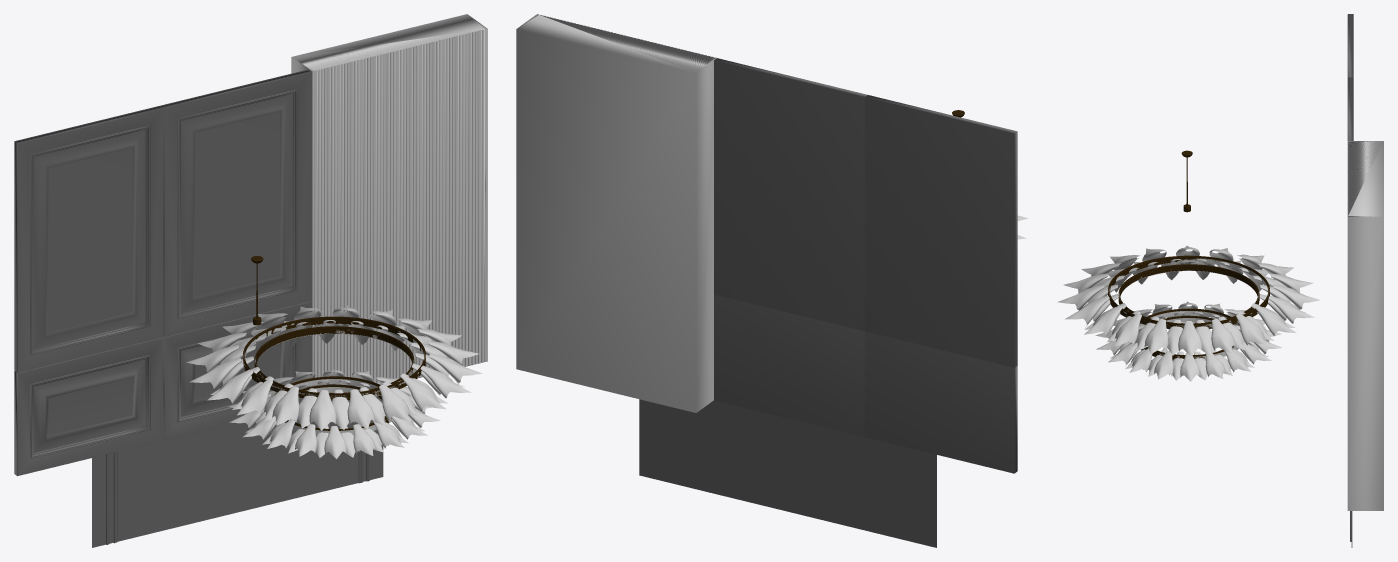
Rendered from room.gltf.
The picture shows the model from 3 angles, left to right: view 1: azimuth 30°, elevation 25°; view 2: azimuth 150°, elevation 25°; view 3: azimuth 270°, elevation 25°; orthographic projection. The views are drawn at different scales.
Parts seen in each view (by area): view 1: _10MTAwMDI=, _10MTAwMDg=, _10MTAwMDk=, _10MDAwMA==, _10MTAwMDc=, _10MTAwMTA=, _10MTAxMDE4MTMx_1, _10MTBDeWxpbmRlcjAzNw==_15, _10MTBDeWxpbmRlcjAzNw==_18, _10MTBDeWxpbmRlcjAzNw==_12, _10MTBDeWxpbmRlcjAzNw==_19, _10MTBDeWxpbmRlcjAzNw==_16 (+7 smaller); view 2: _10MTAwMDI=, _10MTAwMDg=, _10MTAwMDk=, _10MDAwMA==, _10MTAwMDc=, _10MTAwMTA=; view 3: _10MTAwMDI=, _10MTAxMDE4MTMx_1, _10MTBDeWxpbmRlcjAzNw==_6, _10MTBDeWxpbmRlcjAzNw==_7, _10MTBDeWxpbmRlcjAzNw==_3, _10MTBDeWxpbmRlcjAzNw==_13, _10MTBDeWxpbmRlcjAzNw==_8, _10MTBDeWxpbmRlcjAzNw==_17, _10MTBDeWxpbmRlcjAzNw==_2, _10MTBDeWxpbmRlcjAzNw==_14, _10MTAxMDE4MjU0_1, _10MTBDeWxpbmRlcjAzNw==_11 (+6 smaller).
Boxes of the visible parts, x1=… form: _10MTAwMDI=: x1=291, y1=14, x2=487, y2=392; _10MTAwMDg=: x1=14, y1=105, x2=163, y2=372; _10MTAwMDk=: x1=161, y1=69, x2=311, y2=336; _10MDAwMA==: x1=92, y1=400, x2=383, y2=547; _10MTAwMDc=: x1=14, y1=337, x2=163, y2=475; _10MTAwMTA=: x1=163, y1=301, x2=311, y2=440; _10MTAxMDE4MTMx_1: x1=243, y1=316, x2=425, y2=397; _10MTBDeWxpbmRlcjAzNw==_15: x1=309, y1=390, x2=336, y2=430; _10MTBDeWxpbmRlcjAzNw==_18: x1=347, y1=389, x2=374, y2=429; _10MTBDeWxpbmRlcjAzNw==_12: x1=272, y1=386, x2=299, y2=425; _10MTBDeWxpbmRlcjAzNw==_19: x1=379, y1=384, x2=410, y2=421; _10MTBDeWxpbmRlcjAzNw==_16: x1=237, y1=379, x2=272, y2=415; _10MTAwMDI=: x1=516, y1=14, x2=716, y2=412; _10MTAwMDg=: x1=864, y1=95, x2=1017, y2=367; _10MTAwMDk=: x1=714, y1=58, x2=867, y2=331; _10MDAwMA==: x1=639, y1=399, x2=936, y2=547; _10MTAwMDc=: x1=864, y1=331, x2=1017, y2=473; _10MTAwMTA=: x1=714, y1=295, x2=864, y2=436; _10MTAwMDI=: x1=1347, y1=141, x2=1383, y2=510; _10MTAxMDE4MTMx_1: x1=1108, y1=255, x2=1269, y2=327; _10MTBDeWxpbmRlcjAzNw==_6: x1=1178, y1=321, x2=1201, y2=356; _10MTBDeWxpbmRlcjAzNw==_7: x1=1211, y1=319, x2=1235, y2=353; _10MTBDeWxpbmRlcjAzNw==_3: x1=1144, y1=319, x2=1168, y2=354; _10MTBDeWxpbmRlcjAzNw==_13: x1=1113, y1=313, x2=1141, y2=346; _10MTBDeWxpbmRlcjAzNw==_8: x1=1236, y1=313, x2=1267, y2=345; _10MTBDeWxpbmRlcjAzNw==_17: x1=1084, y1=305, x2=1122, y2=336; _10MTBDeWxpbmRlcjAzNw==_2: x1=1255, y1=305, x2=1296, y2=335; _10MTBDeWxpbmRlcjAzNw==_14: x1=1065, y1=295, x2=1109, y2=327; _10MTAxMDE4MjU0_1: x1=1120, y1=265, x2=1258, y2=297; _10MTBDeWxpbmRlcjAzNw==_11: x1=1268, y1=295, x2=1314, y2=323.
Bounding box in the file's own units: 3371 × 2908 × 2294.
